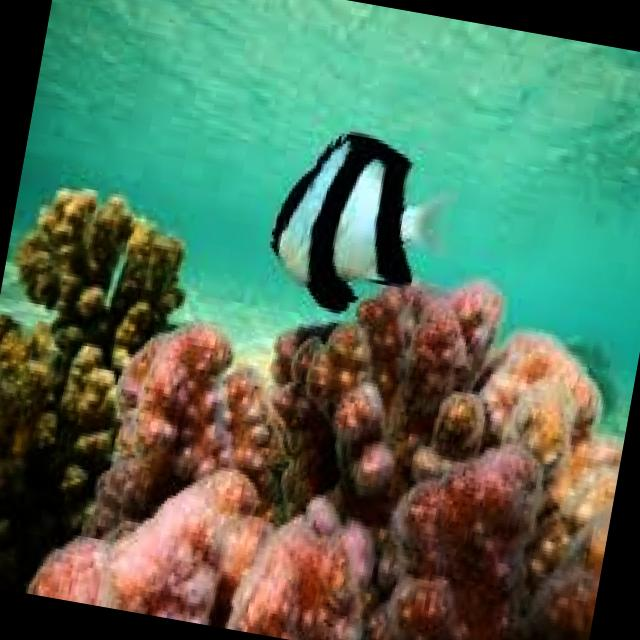Three_striped DasmselFish: (258, 114, 460, 328)
